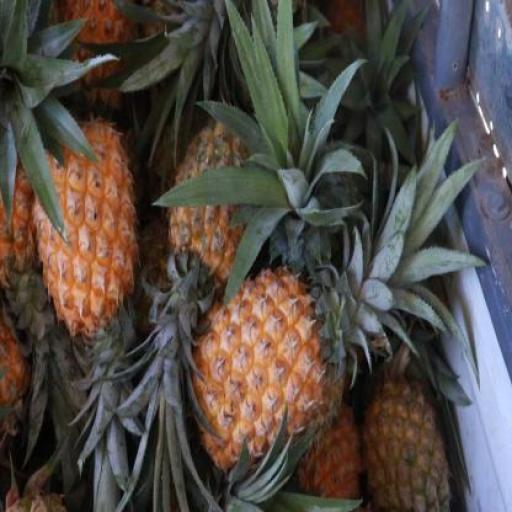------------------------------: (365, 366, 444, 512)
Pineapple - v8 v1: (189, 256, 338, 466), (29, 110, 141, 337)
